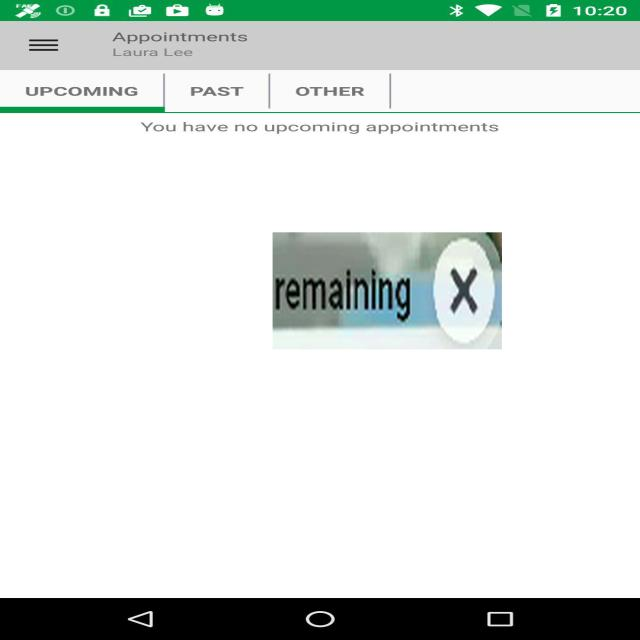misdirection: (273, 232, 502, 350)
